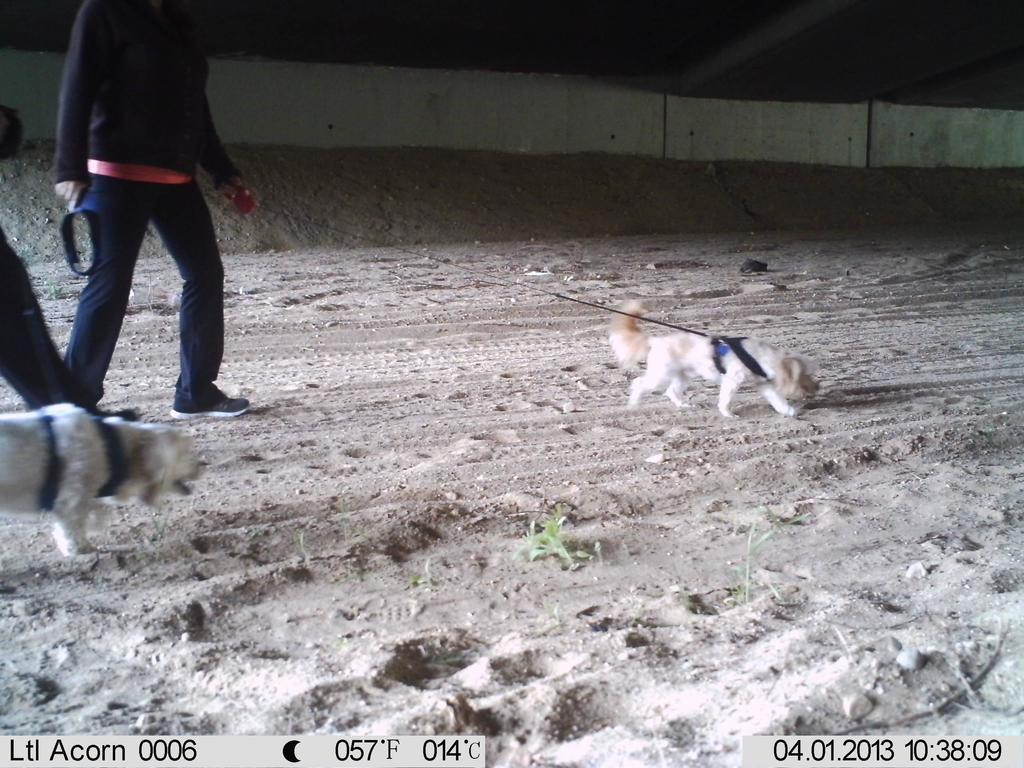dog: (4, 388, 209, 574), (593, 293, 827, 427)
